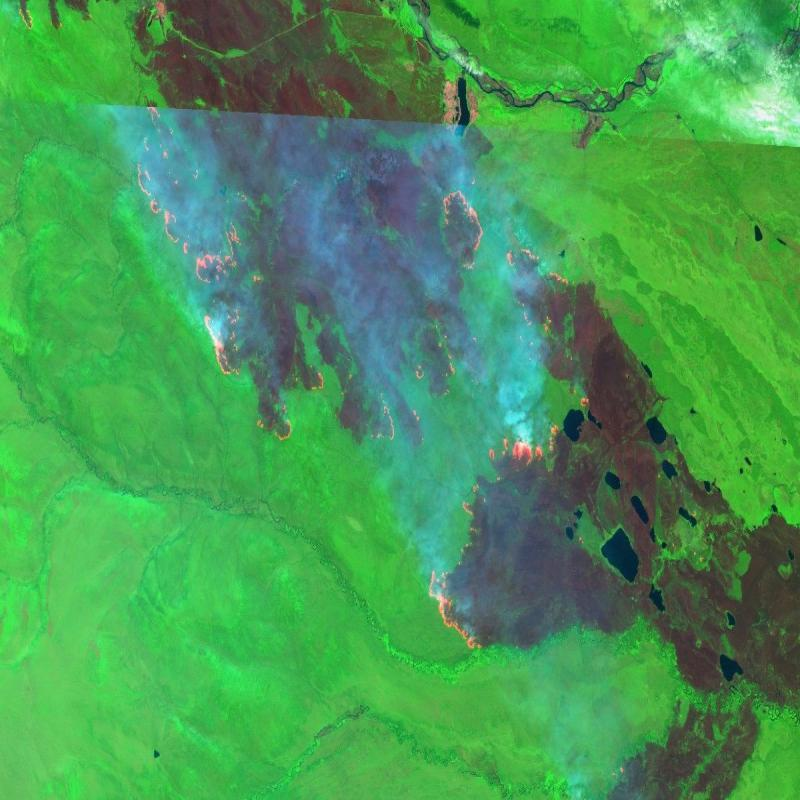fire: (131, 91, 322, 444), (342, 301, 472, 455), (421, 496, 503, 662), (478, 398, 594, 492), (505, 247, 569, 371), (438, 181, 493, 273), (15, 0, 100, 45)
